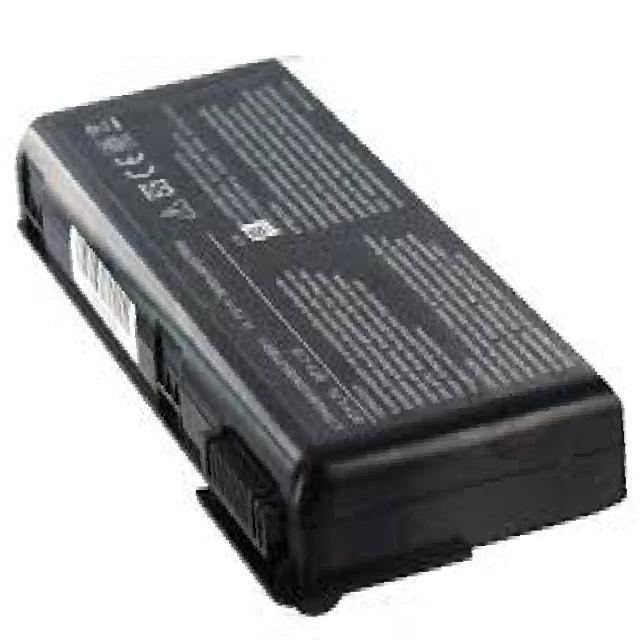Battery: (15, 71, 640, 640)
